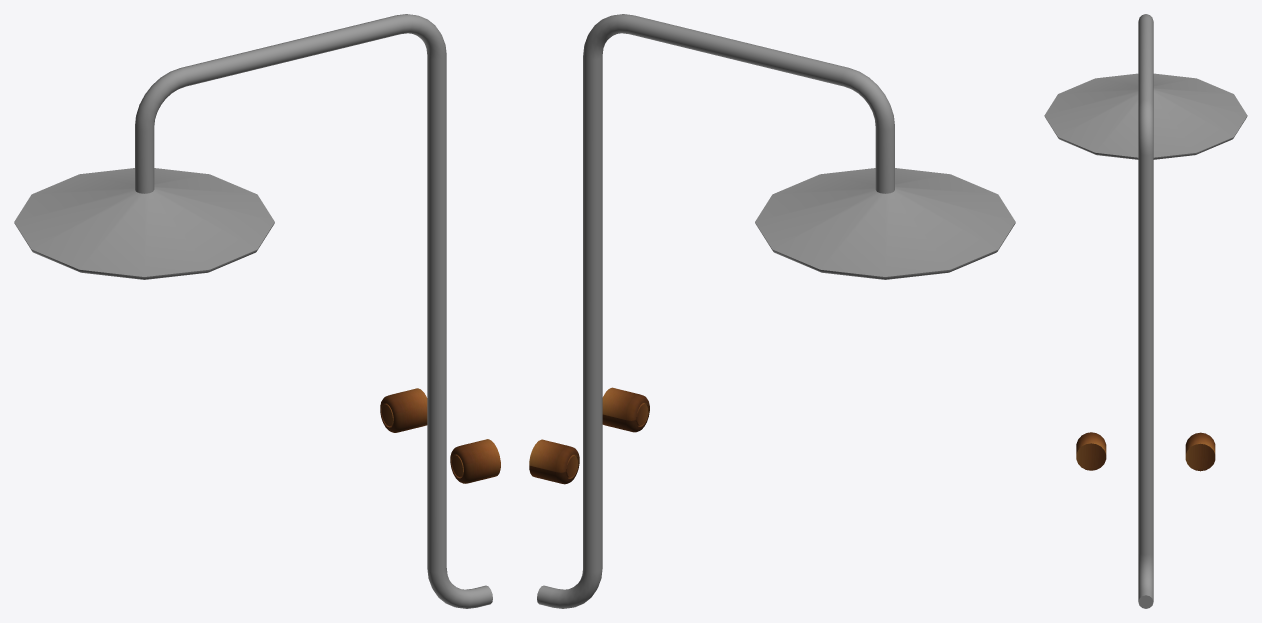
Rendered from shower1.FBX.
The picture shows the model from 3 angles, left to right: view 1: azimuth 30°, elevation 25°; view 2: azimuth 150°, elevation 25°; view 3: azimuth 270°, elevation 25°; orthographic projection. The views are drawn at different scales.
Visible parts, largest first — view 1: Line001, Cylinder002, Cylinder001; view 2: Line001, Cylinder001, Cylinder002; view 3: Line001, Cylinder001, Cylinder002.
Boxes of the visible parts, x1,y1,x2,y2 form: Line001: (14, 14, 492, 608); Cylinder002: (450, 439, 500, 483); Cylinder001: (380, 388, 427, 432); Line001: (537, 14, 1015, 608); Cylinder001: (529, 439, 579, 484); Cylinder002: (602, 387, 649, 432); Line001: (1044, 14, 1247, 608); Cylinder001: (1185, 432, 1215, 471); Cylinder002: (1076, 432, 1106, 470).
Bounding box in the file's own units: 107 × 136 × 52.85.
Materials: 2 (1 with a texture image).
